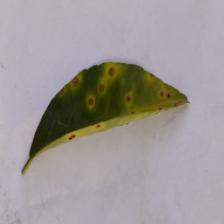canker: (58, 47, 180, 129)
